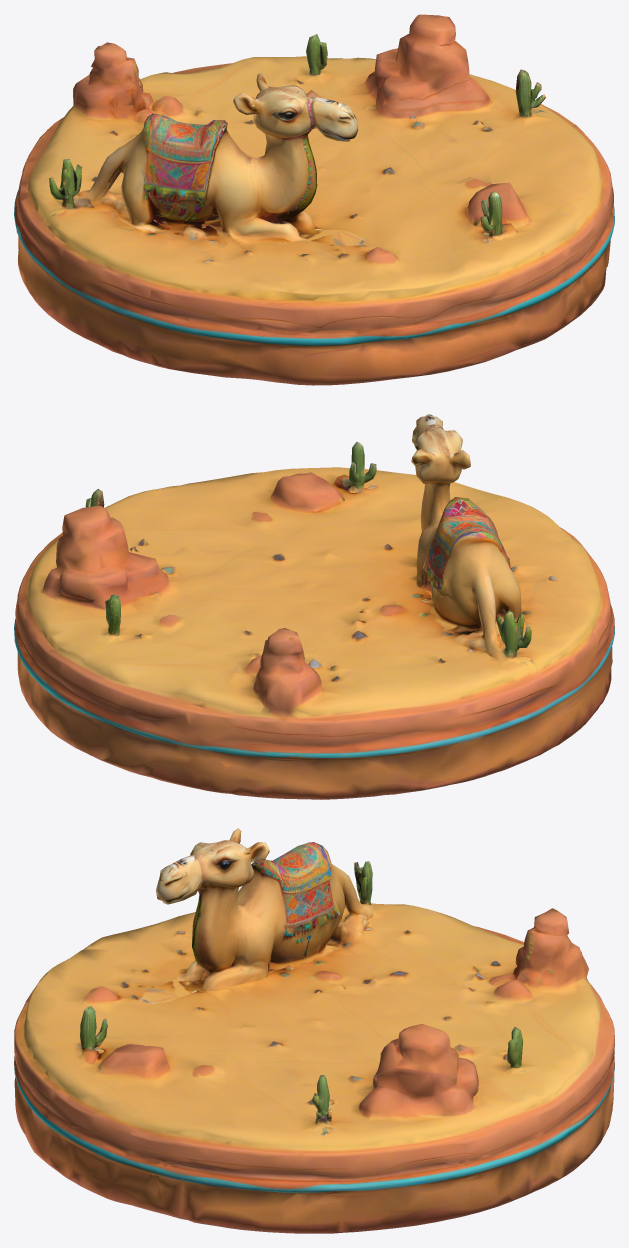
File: camel-a.glb
The picture shows the model from 3 angles, top to bottom: view 1: azimuth 30°, elevation 25°; view 2: azimuth 150°, elevation 25°; view 3: azimuth 270°, elevation 25°; orthographic projection.
Visible parts, largest first — view 1: Mesh_0; view 2: Mesh_0; view 3: Mesh_0.
Part boxes in pixels (x1=…): Mesh_0: x1=14, y1=14, x2=614, y2=385; Mesh_0: x1=14, y1=414, x2=614, y2=799; Mesh_0: x1=14, y1=828, x2=614, y2=1233.
Size of the model in its own units: 4.82 by 2 by 4.81.
1 material, 1 textured.
